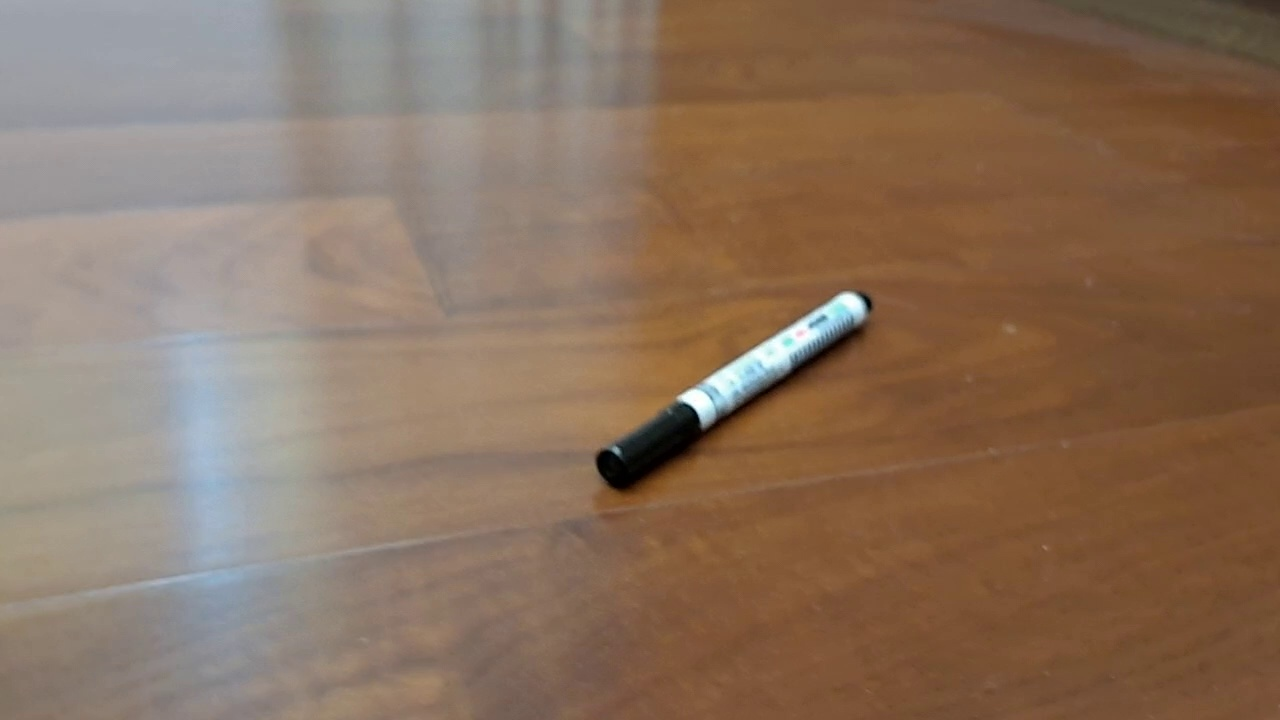pen: (595, 289, 872, 491)
